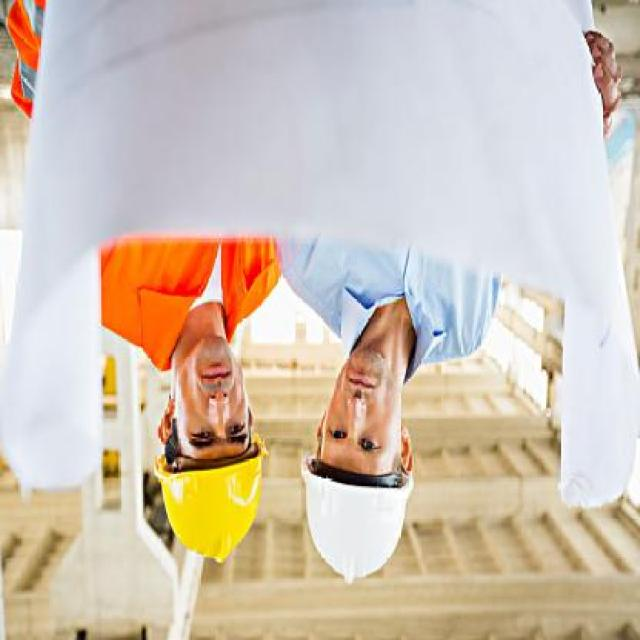safetyhelmet: (295, 348, 420, 570), (150, 336, 270, 566)
